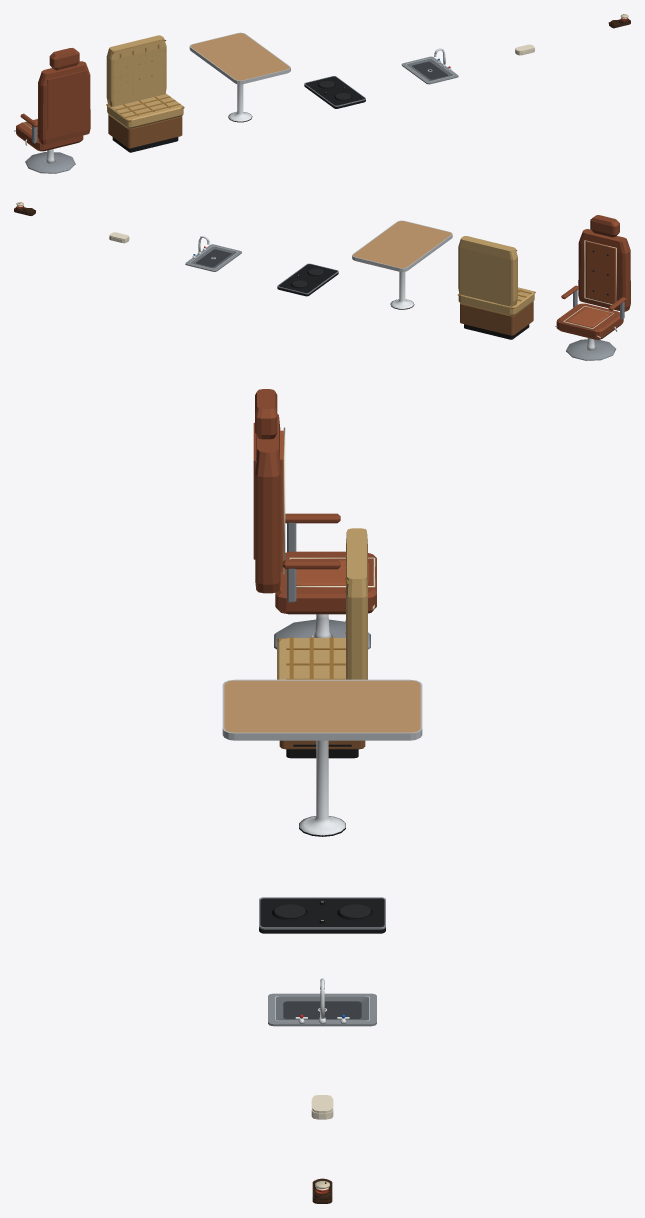
Rendered from rvinterior.glb.
3 views of the same model, one above another, from view 1: azimuth 30°, elevation 25°; view 2: azimuth 150°, elevation 25°; view 3: azimuth 270°, elevation 25° (orthographic). The views are drawn at different scales.
Parts seen in each view (by area): view 1: bench, seat, table, stove, sink; view 2: seat, bench, table, stove, sink; view 3: table, seat, bench, stove, sink.
Boxes of the visible parts, bbox=[...] form: bench: bbox=[106, 35, 184, 152]; seat: bbox=[14, 48, 90, 173]; table: bbox=[189, 32, 290, 122]; stove: bbox=[304, 76, 365, 108]; sink: bbox=[401, 48, 458, 84]; seat: bbox=[555, 215, 630, 360]; bench: bbox=[458, 236, 535, 339]; table: bbox=[352, 220, 452, 309]; stove: bbox=[277, 263, 338, 296]; sink: bbox=[185, 236, 241, 271]; table: bbox=[222, 679, 422, 836]; seat: bbox=[253, 389, 376, 649]; bench: bbox=[277, 528, 367, 758]; stove: bbox=[259, 897, 385, 933]; sink: bbox=[268, 978, 376, 1026].
Size of the model in its own units: 7.65 by 1.53 by 1.1.
